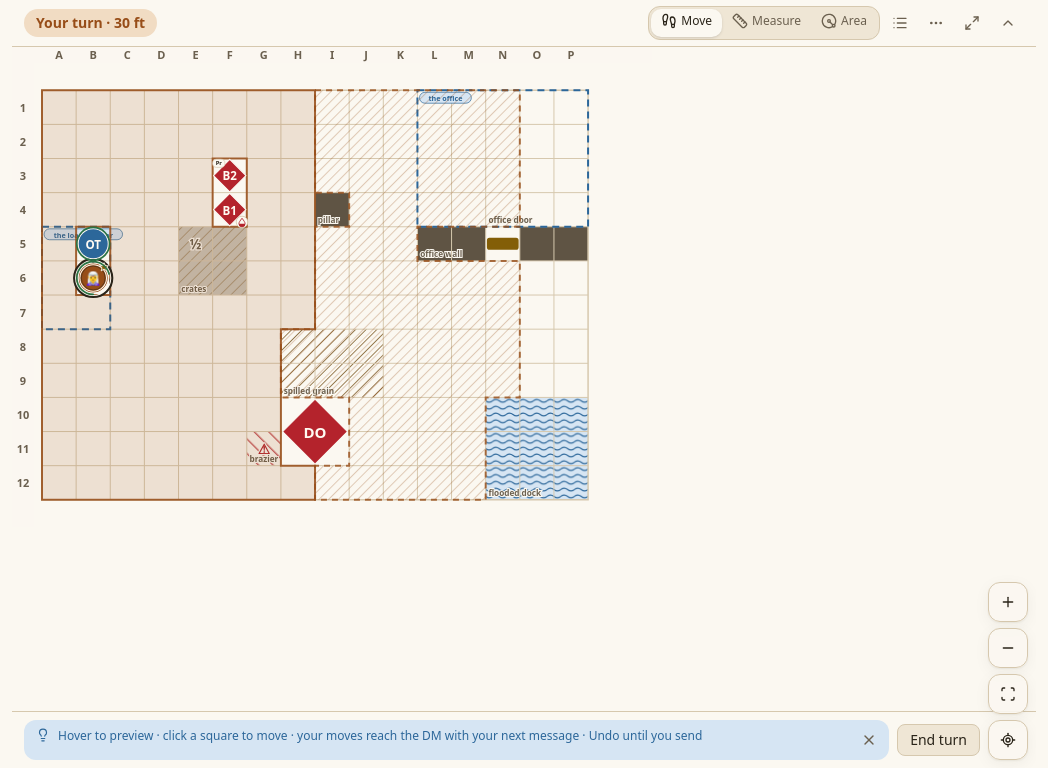
Test: MapViewport pointer input (D60) › tapping an enemy plans the move next to it, with its card in the bar
This screenshot has width=1048, height=768.
Press the mouse on the icon that starts with "office wall" at coordinates (524, 380), box [12,47,1036,712]
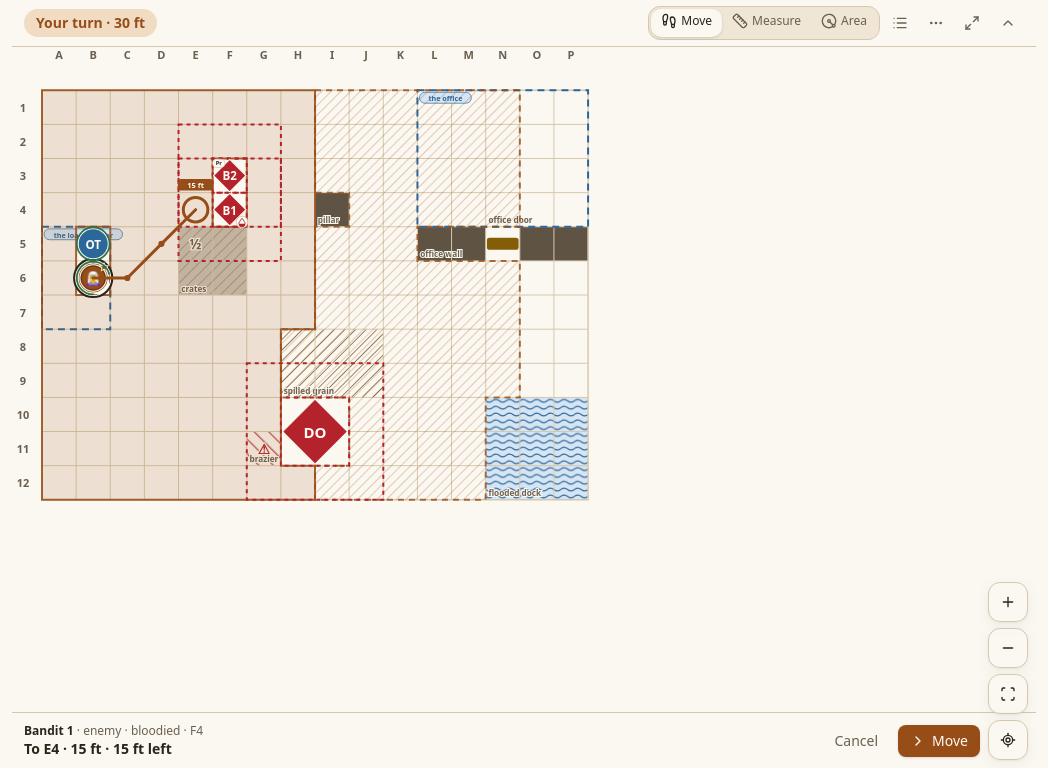
Expected: the text with test id "plan-readout" reads "To E4 · 15 ft · 15 ft left", [24,738,172,758]
Expected: the text "Bandit 1" is shown, [24,722,74,738]
